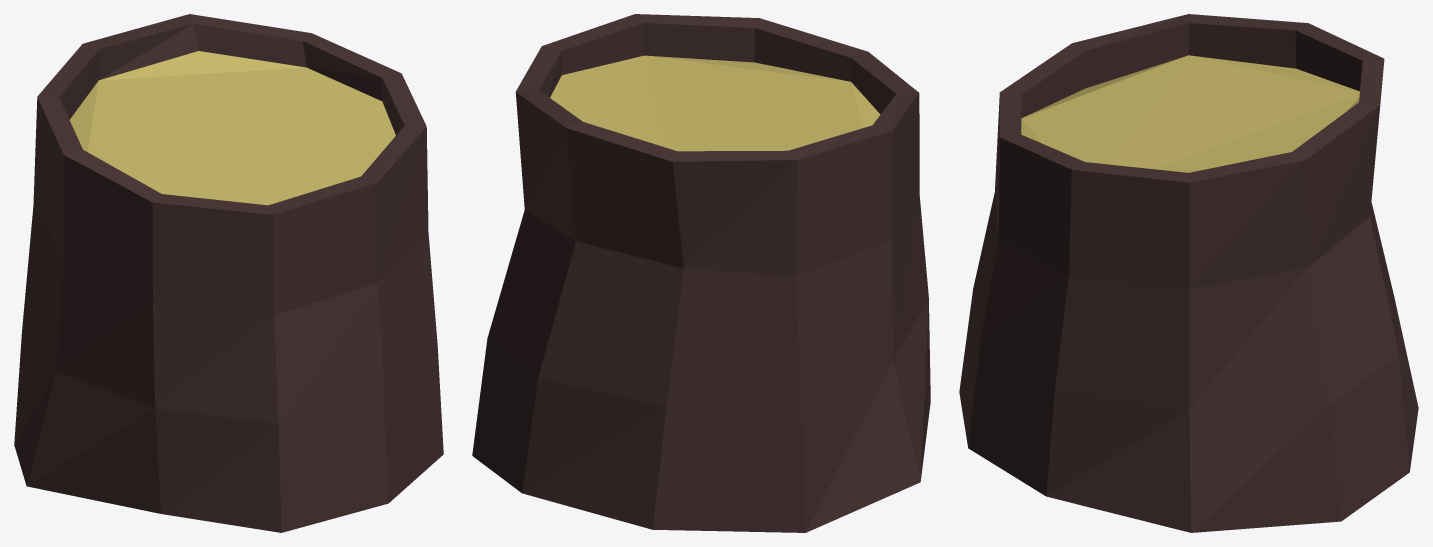
The model's file is A_treestump.FBX.
The picture shows the model from 3 angles, left to right: view 1: azimuth 30°, elevation 25°; view 2: azimuth 150°, elevation 25°; view 3: azimuth 270°, elevation 25°; orthographic projection. The views are drawn at different scales.
Parts seen in each view (by area): view 1: A_treestump_b, A_treestump_t; view 2: A_treestump_b, A_treestump_t; view 3: A_treestump_b, A_treestump_t.
Boxes of the visible parts, left/top/right/bottom form: A_treestump_b: left=14, top=14, right=443, bottom=532; A_treestump_t: left=69, top=51, right=395, bottom=205; A_treestump_b: left=472, top=14, right=930, bottom=532; A_treestump_t: left=550, top=55, right=880, bottom=151; A_treestump_b: left=959, top=14, right=1418, bottom=532; A_treestump_t: left=1021, top=55, right=1359, bottom=172.
Bounding box in the file's own units: 0.7342 × 0.6241 × 0.7084.
